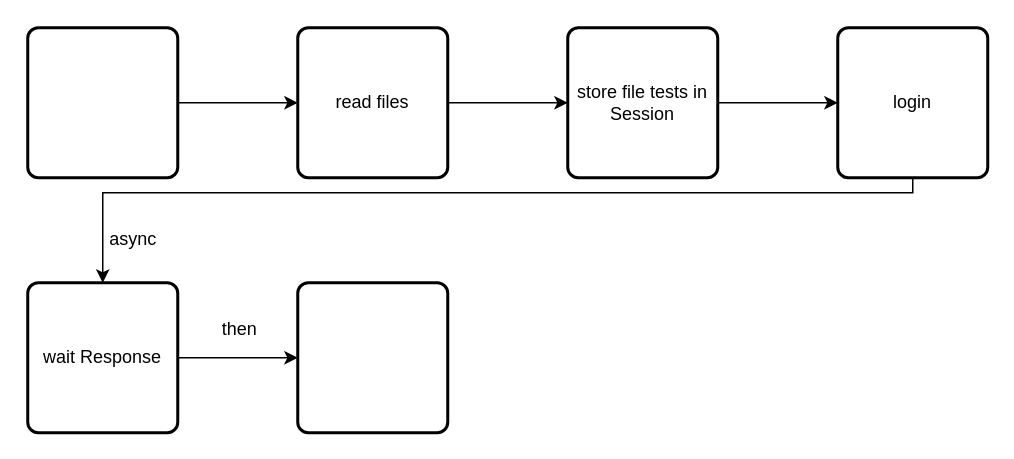
Some shapes in this 1014 by 459 pixel diagram are drawn without their labels. The shapes that lost their labels are listed below. From the top down, each one's centre as x and y in pixels, then its label:
the point at 102,102: --run
the point at 372,357: execute tests
